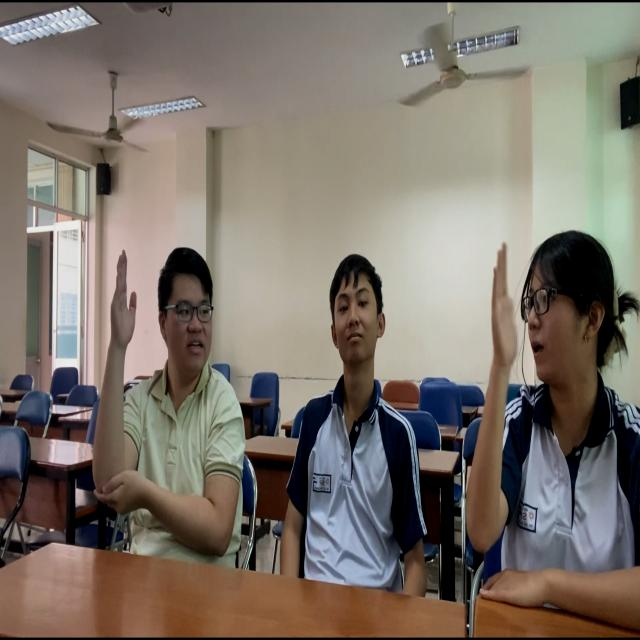raise_hand: (458, 224, 640, 640), (81, 231, 259, 552)
